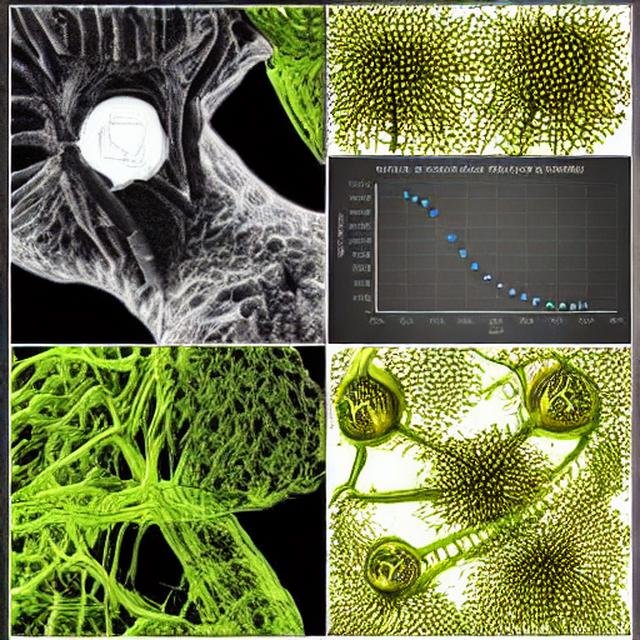Graph: (331, 158, 631, 344), (93, 120, 154, 162)
